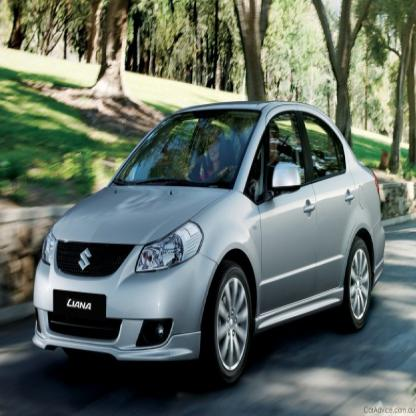Vehicle: (32, 98, 387, 391)
